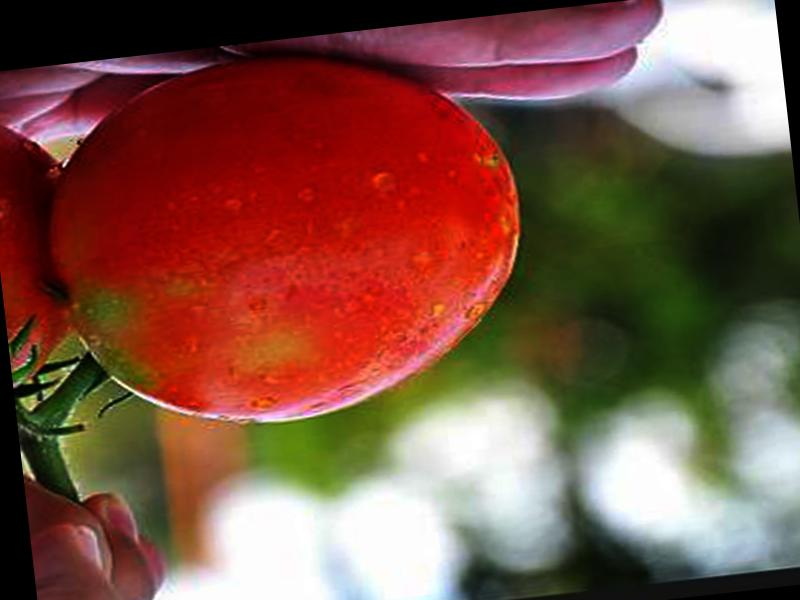Tomato: (35, 34, 538, 445)
